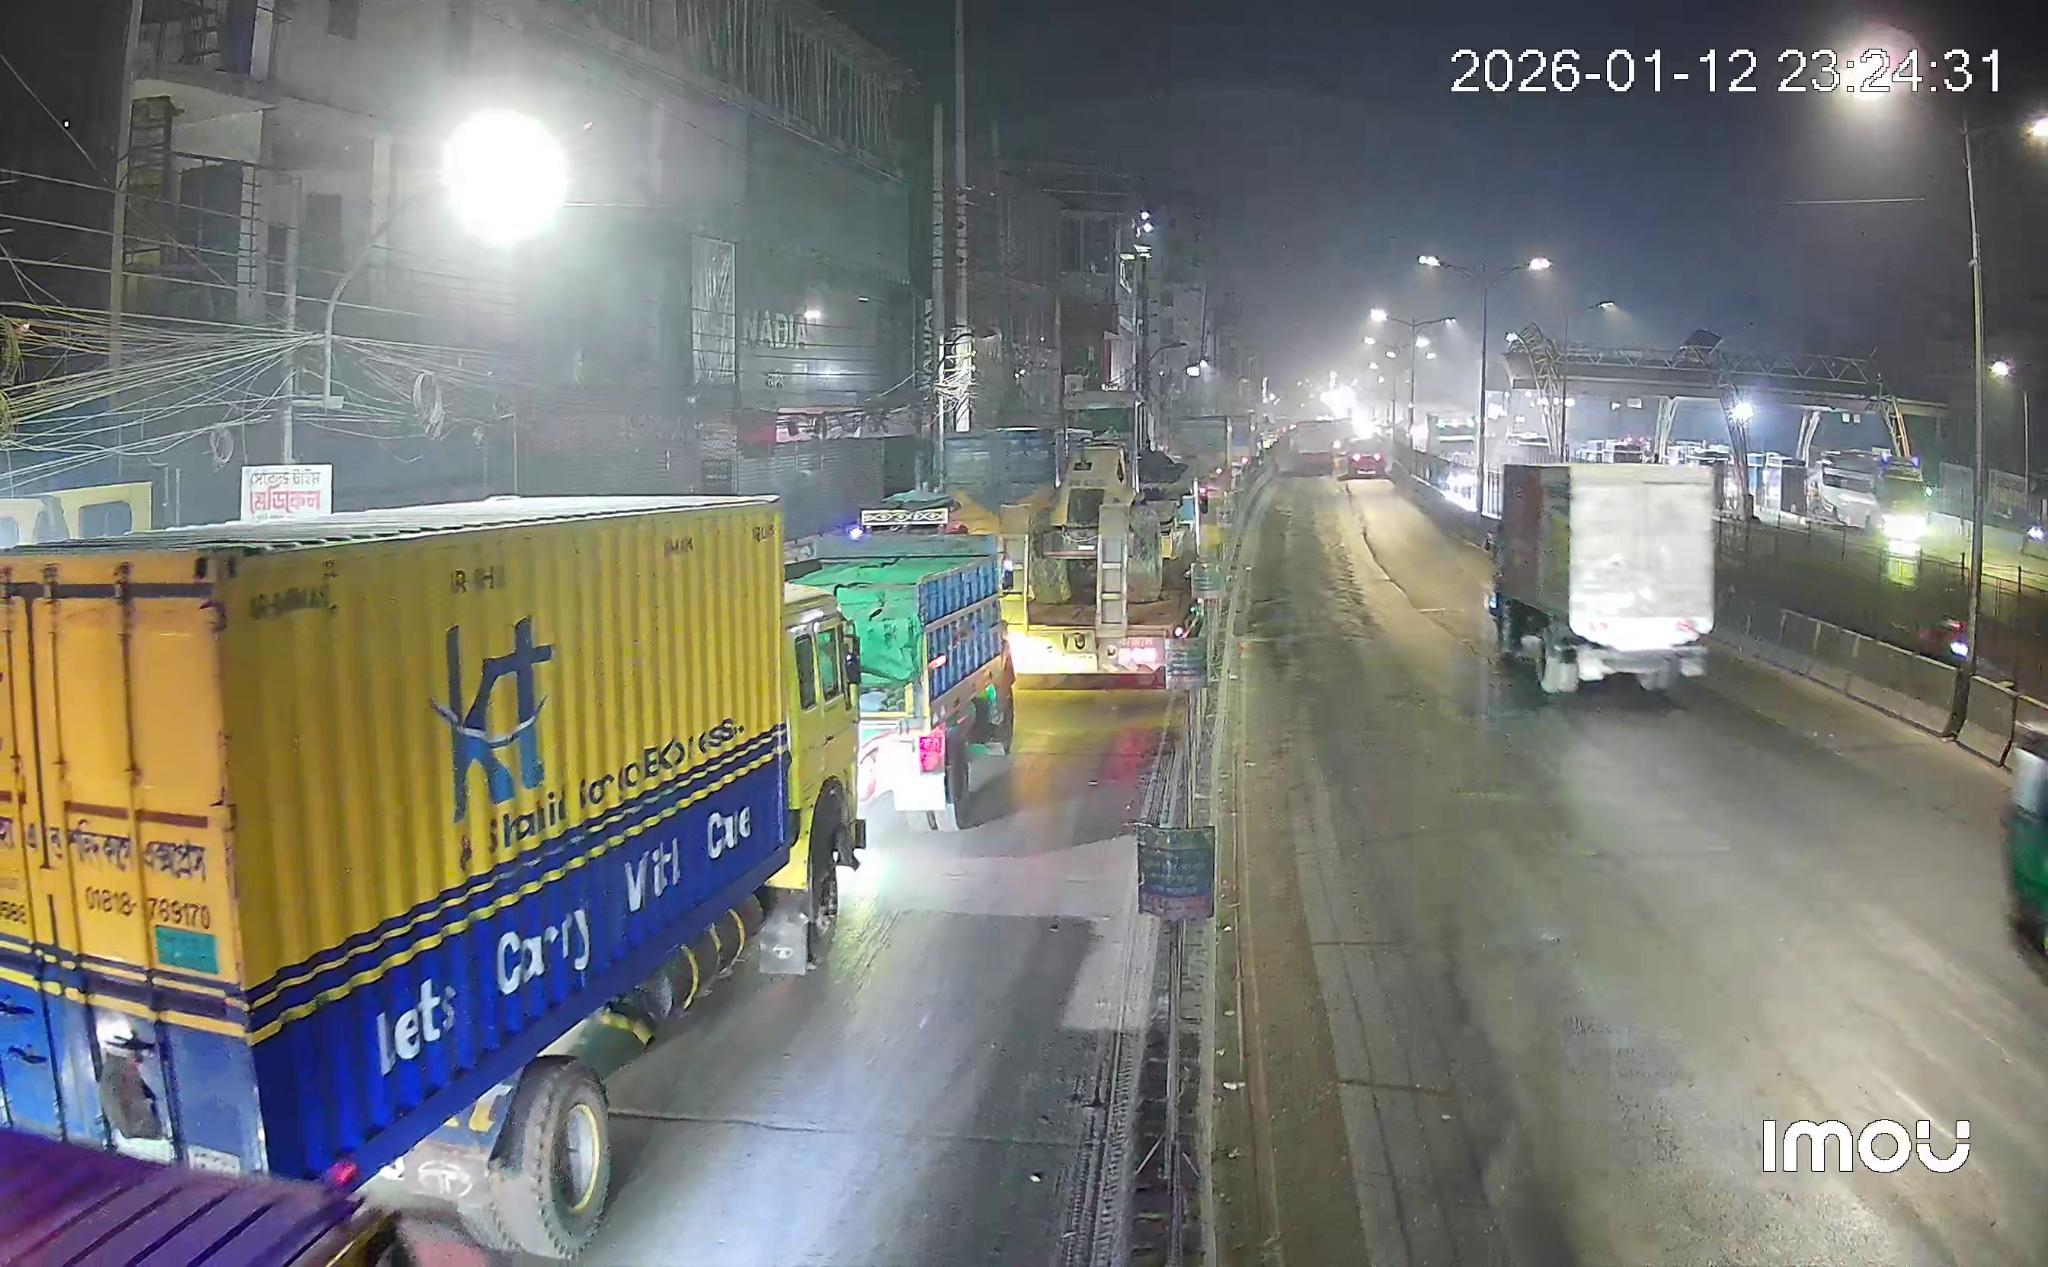Truck: (0, 497, 866, 1259), (802, 533, 1014, 830), (1486, 462, 1714, 693)
